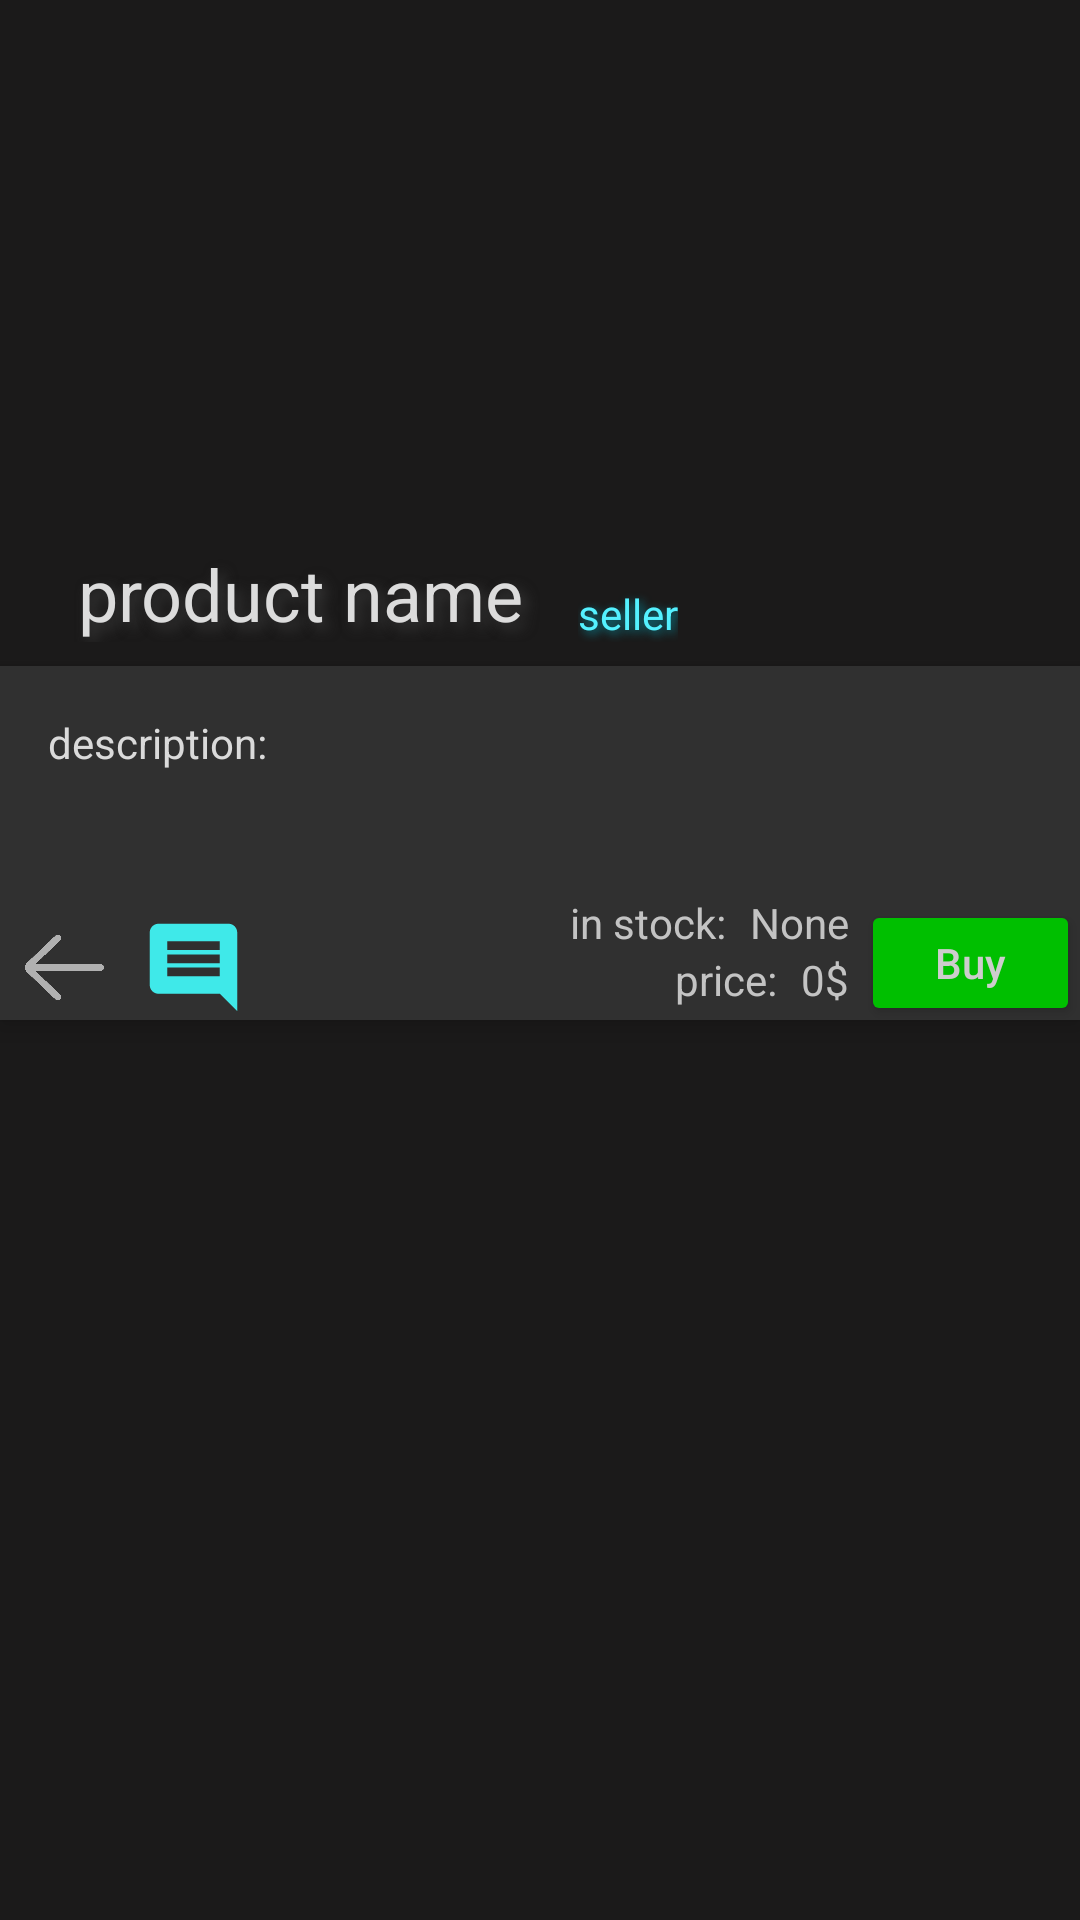

Screen size 1080px×1920px. Icon name, then its center in pixels as (x=x, y=y):
comment: (x=193, y=967)
left arrow: (x=64, y=967)
